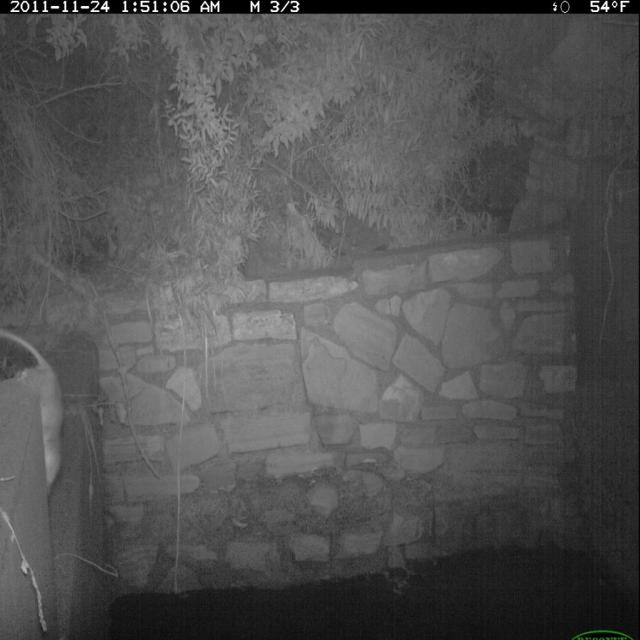rodent: (1, 321, 70, 505)
